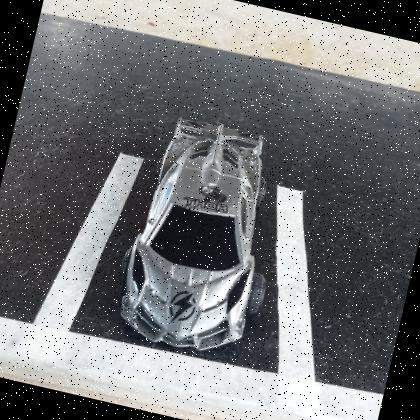Car: (120, 120, 263, 352)
